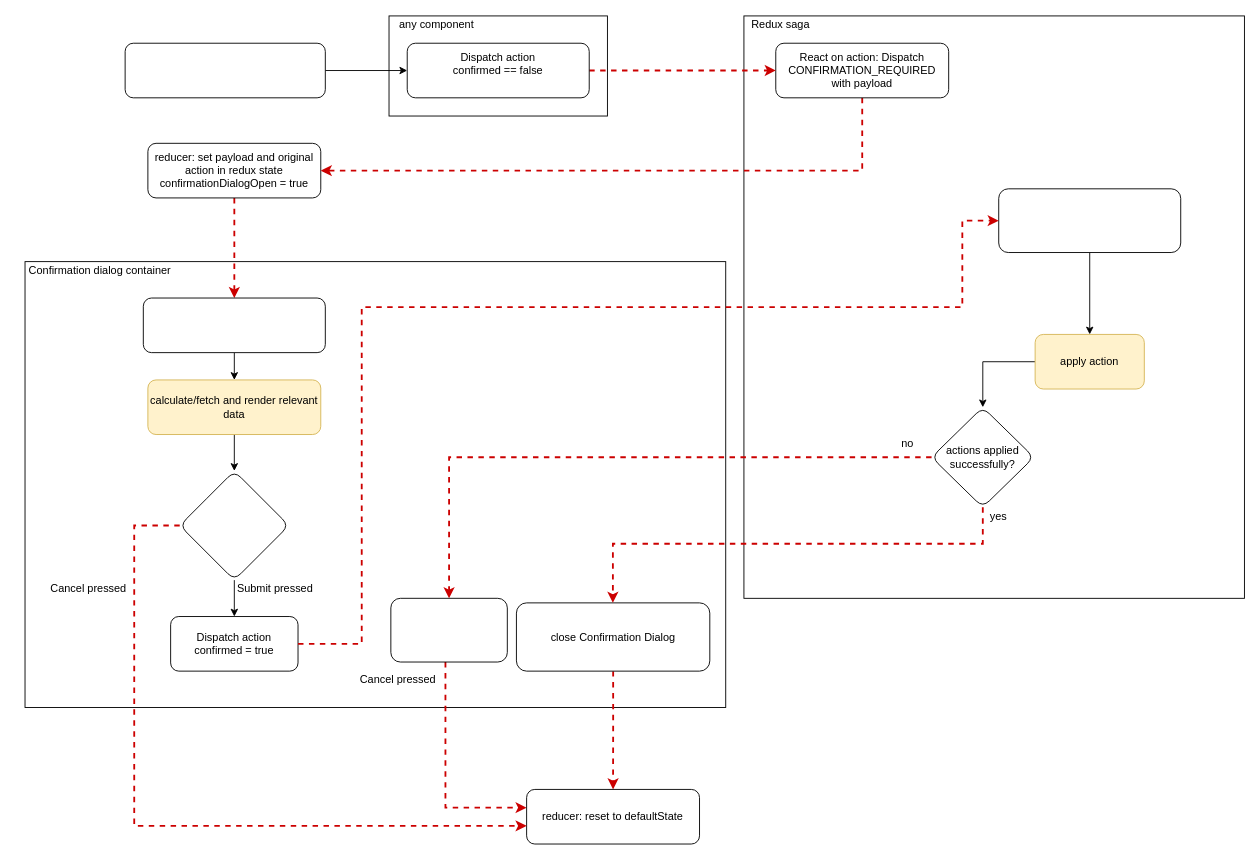
Image size: 1260x860. Some labels were removed from this diagram. The shapes that lost their labels are listed below. From the top down, each one's centre as x and y in pixels, then its label:
At (224,70): "Start frontend confirmed = false confirmationDialogOpen = false".
At (1089,220): "React on action with confirmed == true".
At (233,325): "Open confirmation dialog".
At (234,525): "Which button has been pressed?".
At (448,629): "Confirmation dialog remains open, show failed action".
